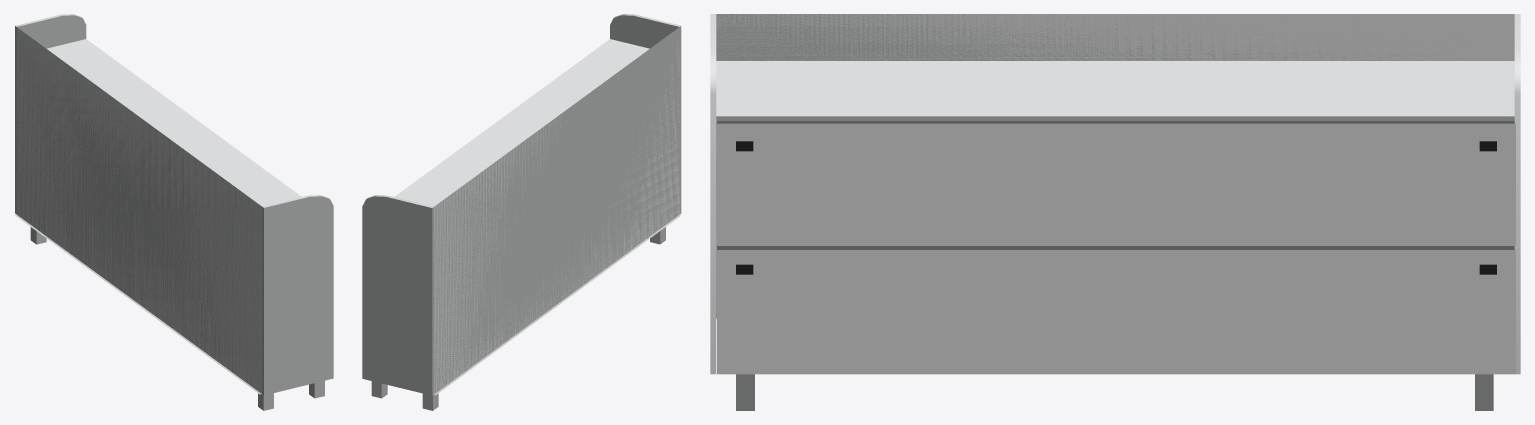
Rendered from M_chuangbiangui02.FBX.
3 renders of one model, left to right at view 1: azimuth 30°, elevation 25°; view 2: azimuth 150°, elevation 25°; view 3: azimuth 270°, elevation 25°, orthographic. The views are drawn at different scales.
Parts seen in each view (by area): view 1: M_chuangbiangui02; view 2: M_chuangbiangui02; view 3: M_chuangbiangui02.
Part boxes in pixels (x1,y1,x2,y2): M_chuangbiangui02: [14, 14, 333, 410]; M_chuangbiangui02: [362, 14, 681, 410]; M_chuangbiangui02: [710, 14, 1520, 410].
Size of the model in its own units: 0.4981 by 1.38 by 2.97.
